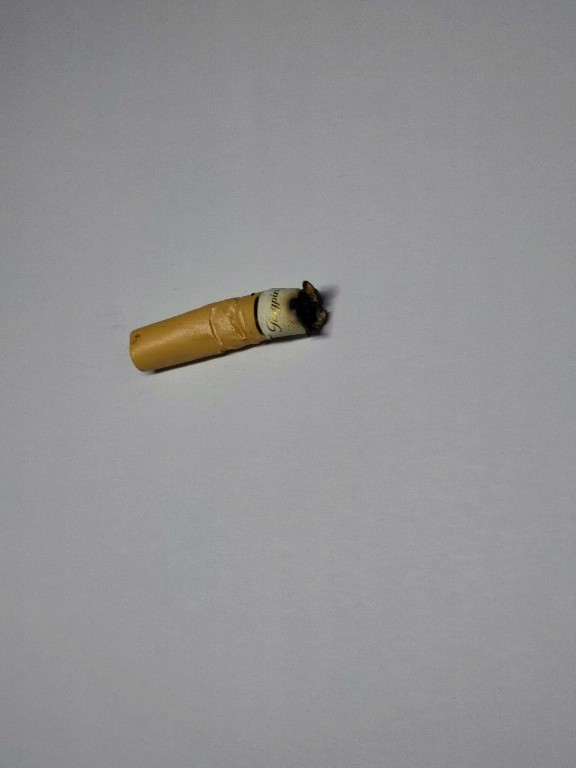cigarette: (121, 276, 336, 375)
